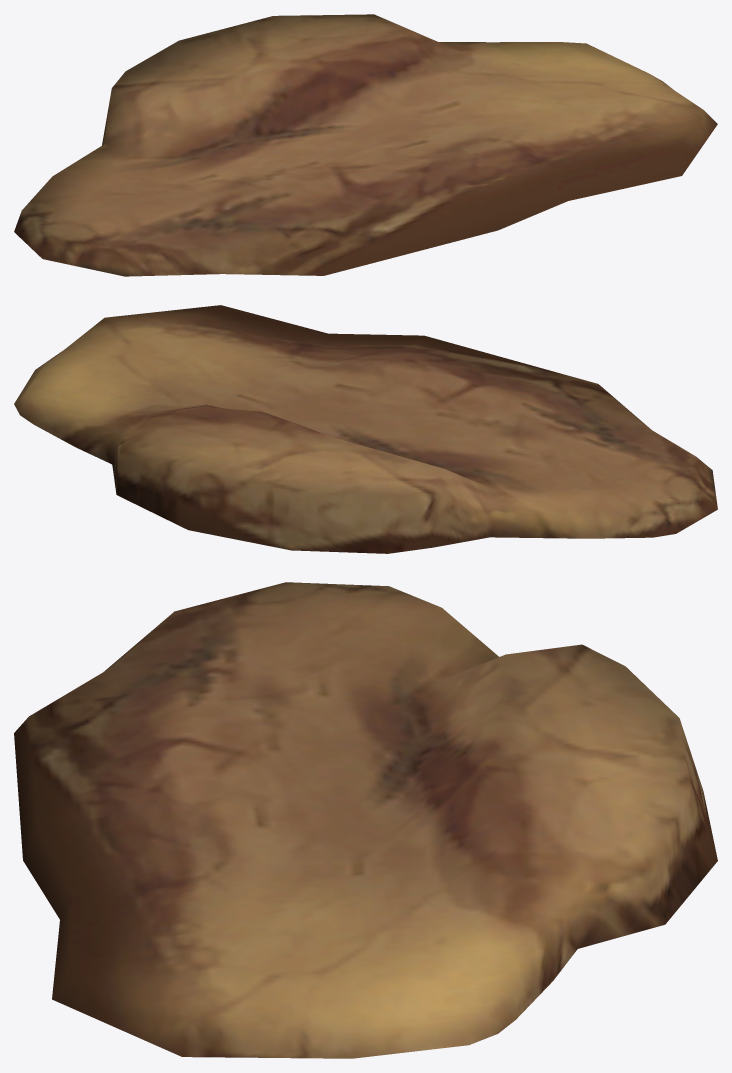
File: nashgar_natural_rock_small02_03.FBX
3 views of the same model, one above another, from view 1: azimuth 30°, elevation 25°; view 2: azimuth 150°, elevation 25°; view 3: azimuth 270°, elevation 25° (orthographic). The views are drawn at different scales.
Parts seen in each view (by area): view 1: nashgar_natural_rock_small02_03; view 2: nashgar_natural_rock_small02_03; view 3: nashgar_natural_rock_small02_03.
Boxes of the visible parts, x1,y1,x2,y2 form: nashgar_natural_rock_small02_03: (14, 14, 717, 276); nashgar_natural_rock_small02_03: (14, 305, 717, 553); nashgar_natural_rock_small02_03: (14, 582, 717, 1058).
Size of the model in its own units: 5.08 by 0.4133 by 3.25.
